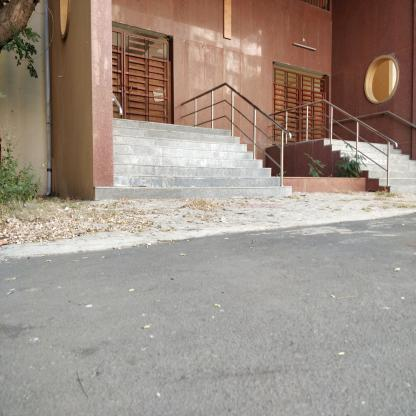stairs: (116, 136, 244, 203)
